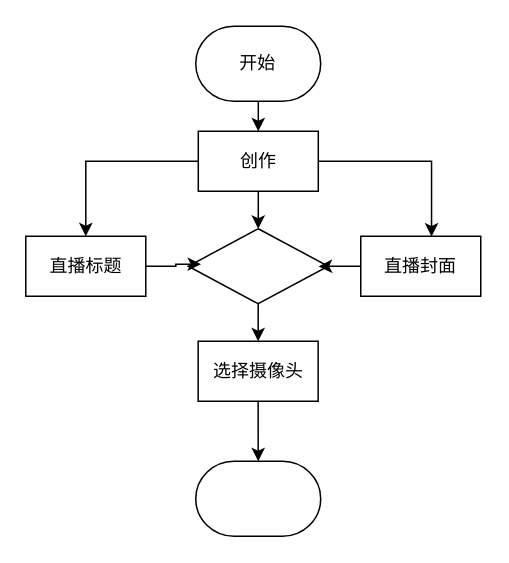
Some shapes in this 509 by 563 pixel diagram are drawn without their labels. The shapes that lost their labels are listed below. From the top down, each one's centre as x and y in pixels, then its label:
At [257,265]: "直播".
At [257,498]: "发布".
